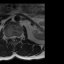CCS_normal: (12, 34, 14, 42)
LFS_normal: (17, 34, 19, 40)
LLS_normal: (14, 34, 16, 40)
RFS_normal: (7, 34, 9, 41)
RLS_normal: (9, 34, 12, 41)
